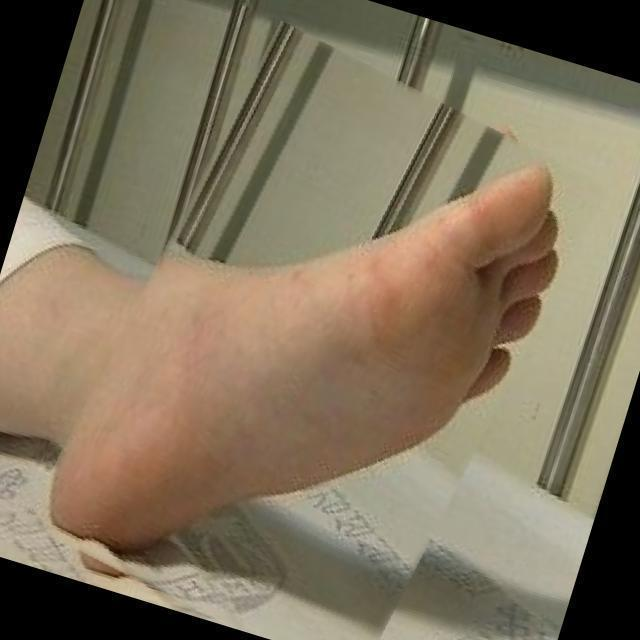No_Shoes: (53, 142, 580, 541)
